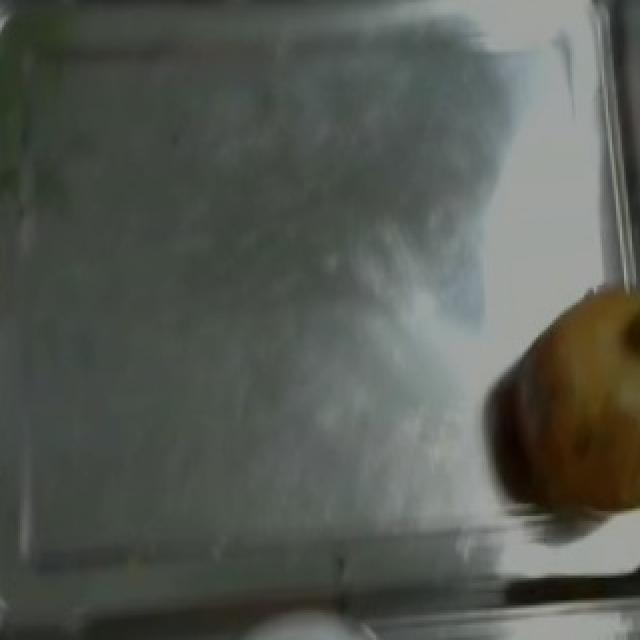fruit: (488, 265, 640, 546)
